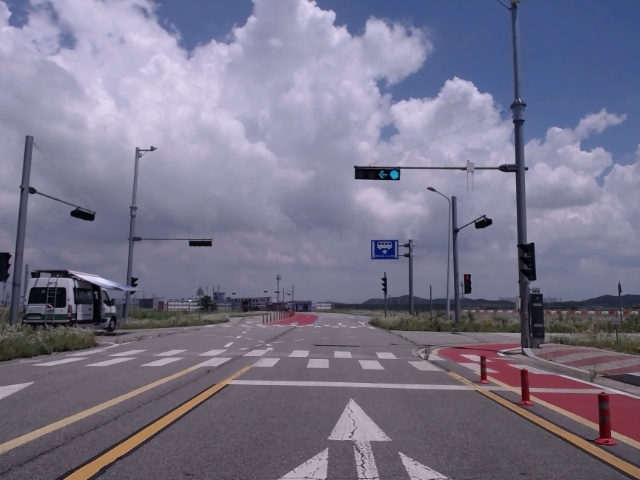all_green_4: (355, 163, 403, 179)
